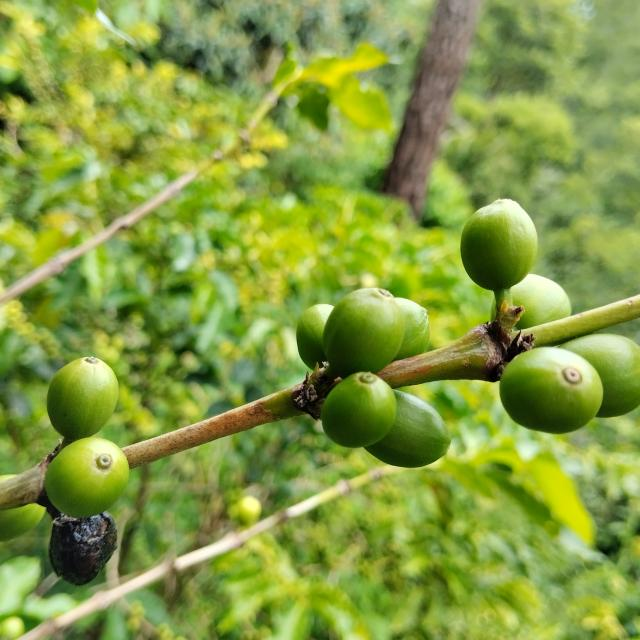green: (500, 347, 604, 434), (322, 288, 405, 378), (461, 199, 538, 291), (44, 438, 129, 519), (560, 334, 640, 418), (365, 390, 451, 468), (46, 357, 118, 441), (321, 372, 397, 448), (512, 274, 572, 329), (296, 304, 334, 370), (394, 298, 430, 361)
red: (48, 512, 116, 586)
